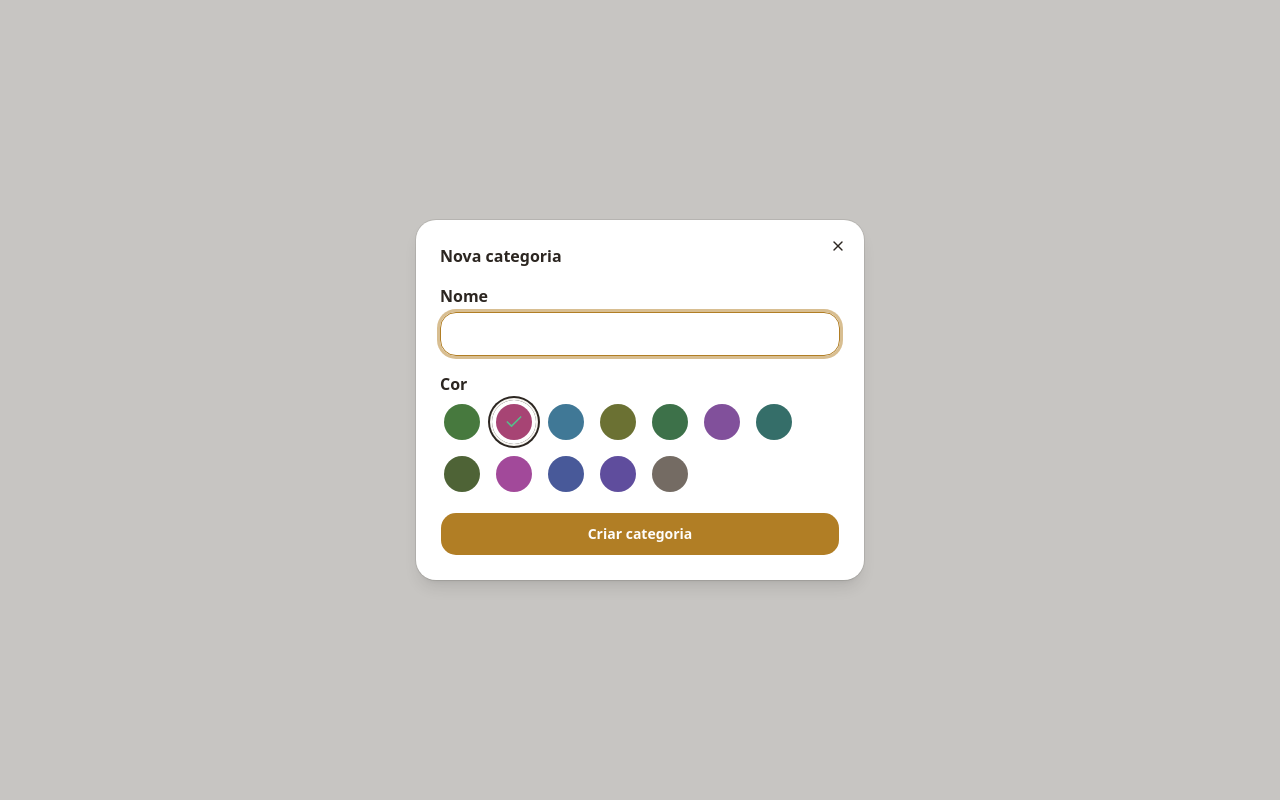
Test: CategoryFormDialog (Screen 6, E5, CAT-02, CAT-03) › durante a gravação o botão vira spinner e desabilita; segundo clique não dispara segunda gravação (E5/loading, CAT-02/idempotency)
Step 1. Type "Categoria Nova" into the field labelled "Nome" → (640, 334), box [440, 312, 840, 356]
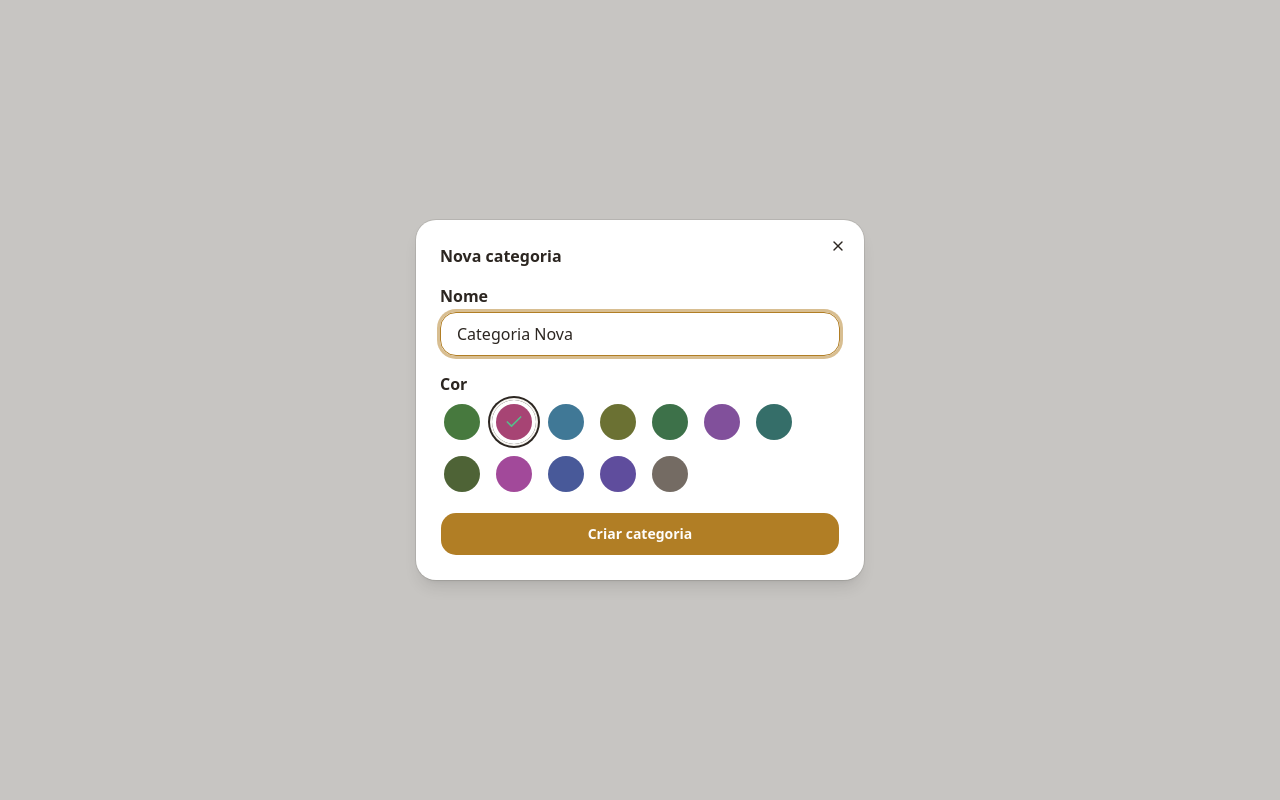
Step 2. Click the button "Criar categoria" → (640, 534), box [440, 512, 840, 556]
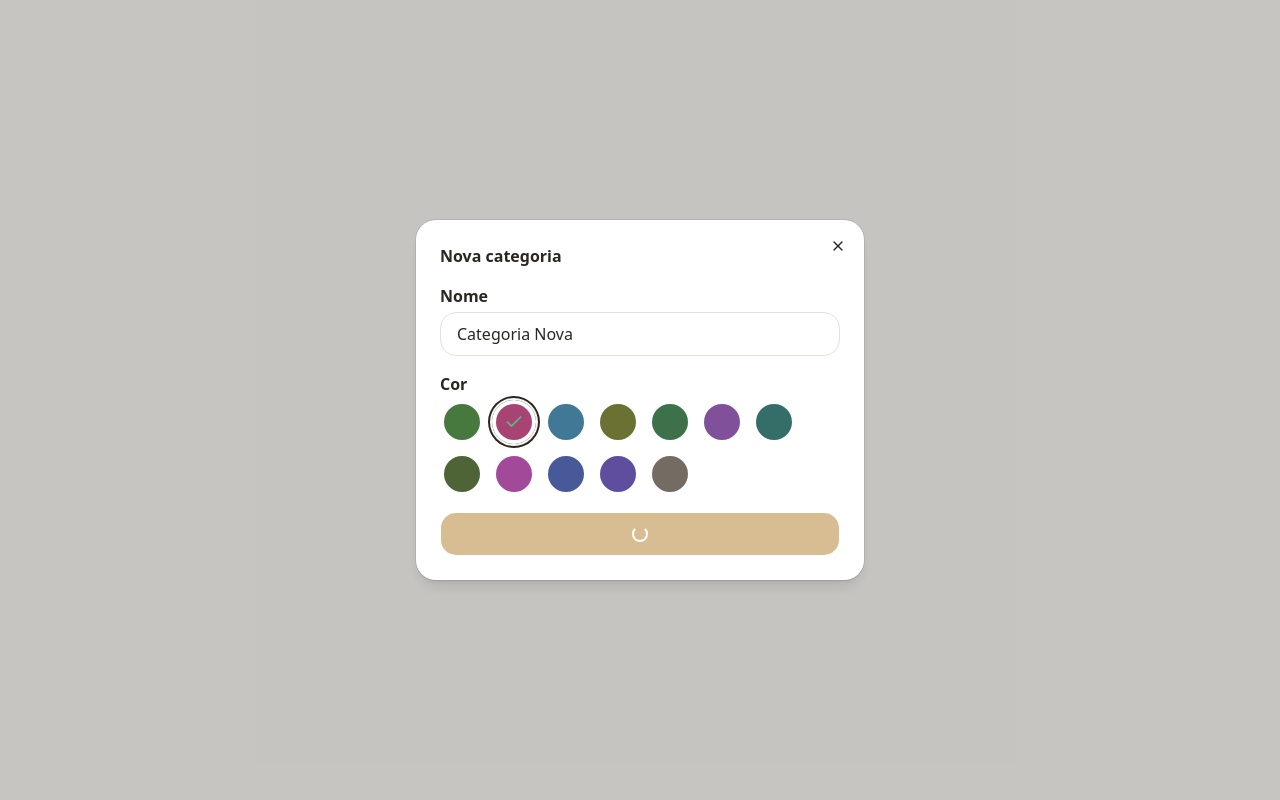
Check: the button named "Criar categoria" below "Cor" is disabled
Step 3. Click the button named "Criar categoria" below "Cor" → (640, 534), box [440, 512, 840, 556]
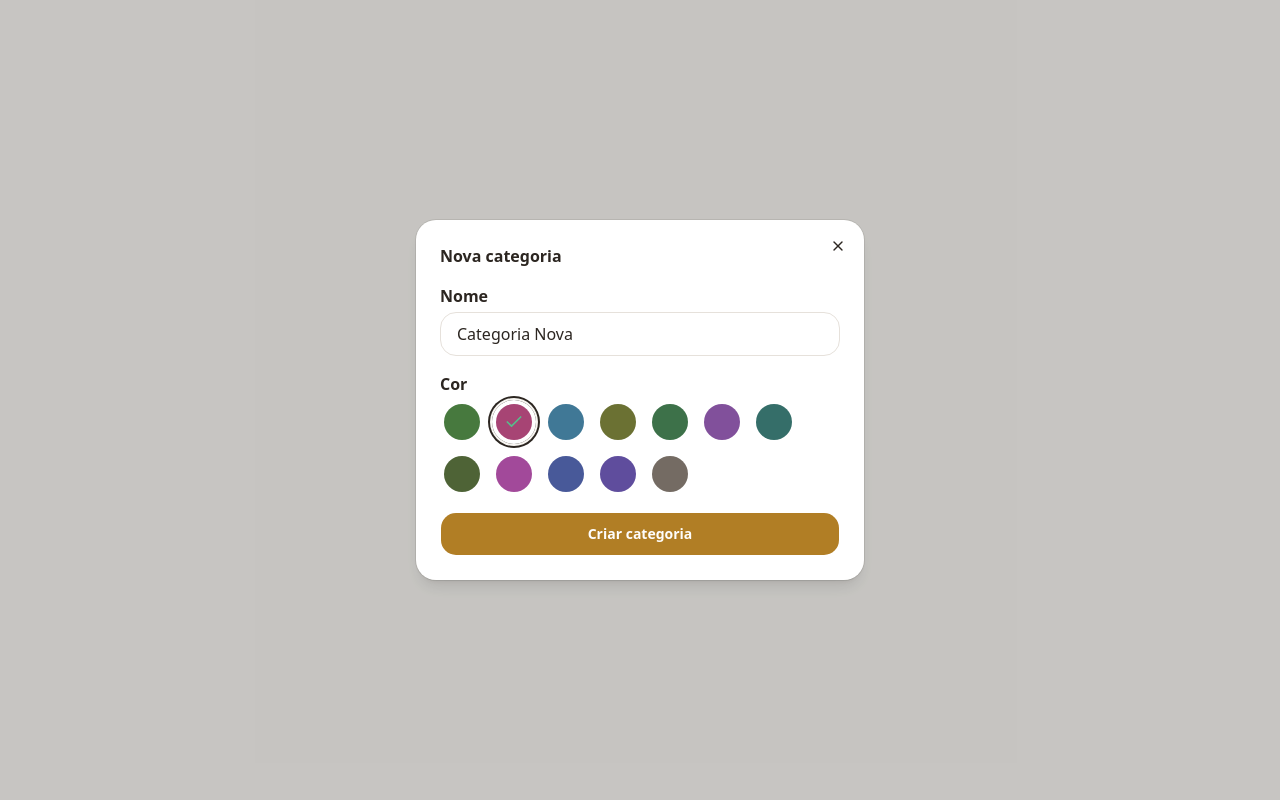
Check: the button "Criar categoria" is enabled, box [440, 512, 840, 556]
